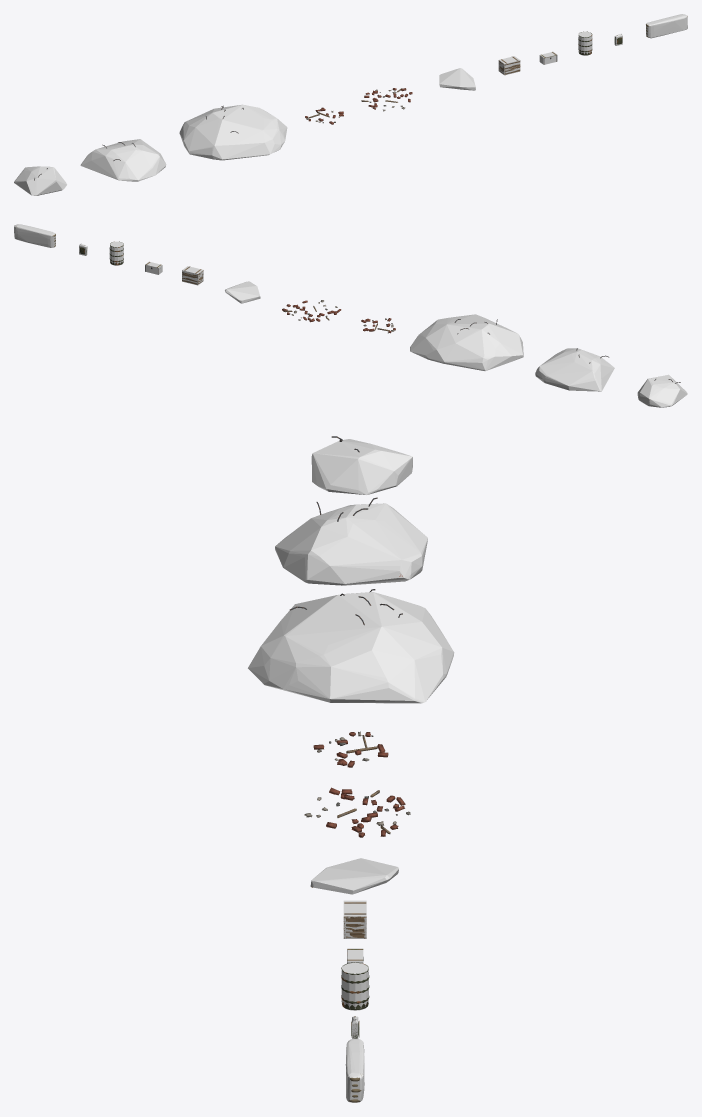
The model's file is props_4_game.glb.
The picture shows the model from 3 angles, top to bottom: view 1: azimuth 30°, elevation 25°; view 2: azimuth 150°, elevation 25°; view 3: azimuth 270°, elevation 25°; orthographic projection. The views are drawn at different scales.
Parts seen in each view (by area): view 1: COL_rubble_heap, COL_rubble_pile_b, COL_rubble_pile_a, COL_sandbag_wall, COL_beams_debris, debris_bricks_b, COL_crate_wood, COL_barrel_oil; view 2: COL_rubble_heap, COL_rubble_pile_b, COL_rubble_pile_a, COL_sandbag_wall, COL_beams_debris, debris_bricks_b, COL_crate_wood; view 3: COL_rubble_heap, COL_rubble_pile_b, COL_rubble_pile_a, COL_beams_debris, debris_bricks_b, COL_barrel_oil, COL_sandbag_wall.
Boxes of the visible parts, box(x1,y1,x2,y2) form: COL_rubble_heap: box(179, 104, 287, 160); COL_rubble_pile_b: box(80, 139, 166, 181); COL_rubble_pile_a: box(14, 166, 66, 195); COL_sandbag_wall: box(646, 14, 687, 38); COL_beams_debris: box(439, 68, 475, 90); debris_bricks_b: box(361, 88, 412, 111); COL_crate_wood: box(498, 56, 520, 75); COL_barrel_oil: box(578, 31, 592, 55); COL_rubble_heap: box(410, 314, 523, 370); COL_rubble_pile_b: box(535, 348, 614, 391); COL_rubble_pile_a: box(637, 374, 687, 407); COL_sandbag_wall: box(14, 224, 55, 247); COL_beams_debris: box(225, 281, 260, 303); debris_bricks_b: box(282, 300, 341, 322); COL_crate_wood: box(182, 266, 203, 285); COL_rubble_heap: box(248, 592, 454, 703); COL_rubble_pile_b: box(275, 503, 427, 585); COL_rubble_pile_a: box(311, 439, 412, 494); COL_beams_debris: box(310, 858, 398, 894); debris_bricks_b: box(304, 787, 410, 837); COL_barrel_oil: box(341, 962, 368, 1010); COL_sandbag_wall: box(345, 1038, 364, 1102).
Bounding box in the file's own units: 33.32 × 1.41 × 4.48.
Materials: 9 (9 with a texture image).
